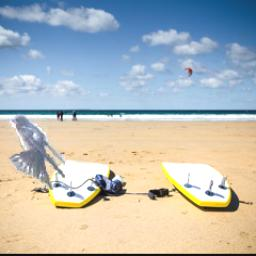Swallow: (7, 115, 65, 191)
